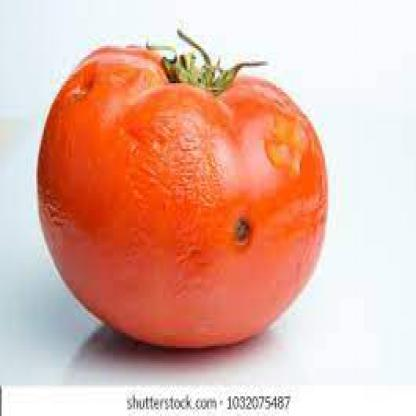Rotten: (15, 15, 388, 381)
